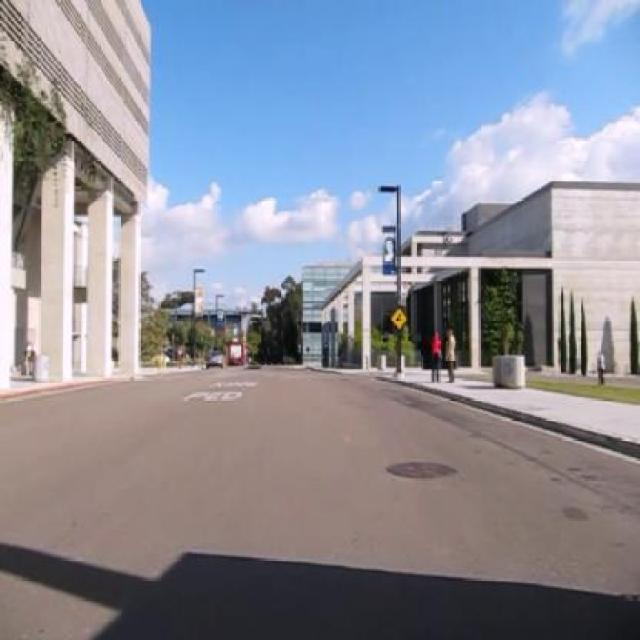pedestrianCrossing: (389, 306, 407, 331)
